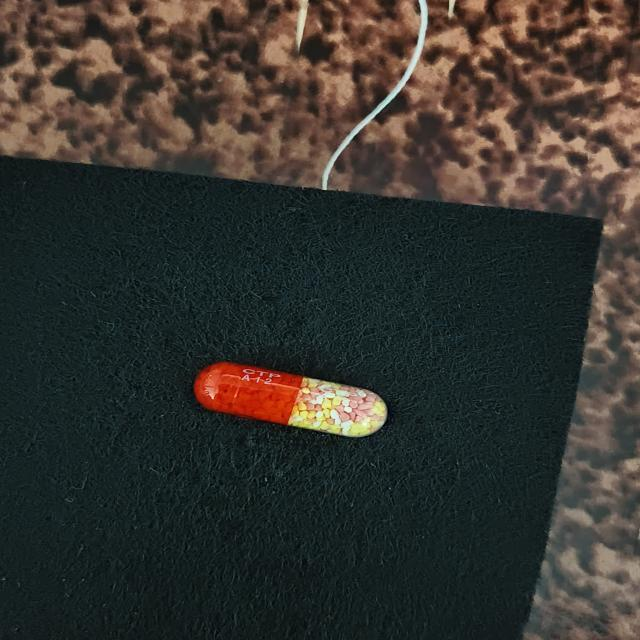Intact Capsule: (194, 362, 388, 437)
